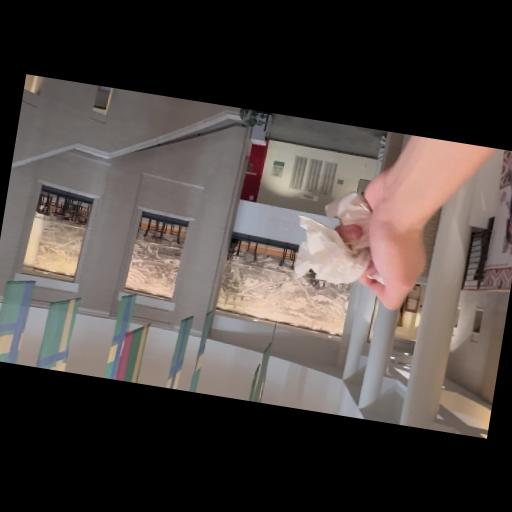napkin: (288, 180, 400, 294)
